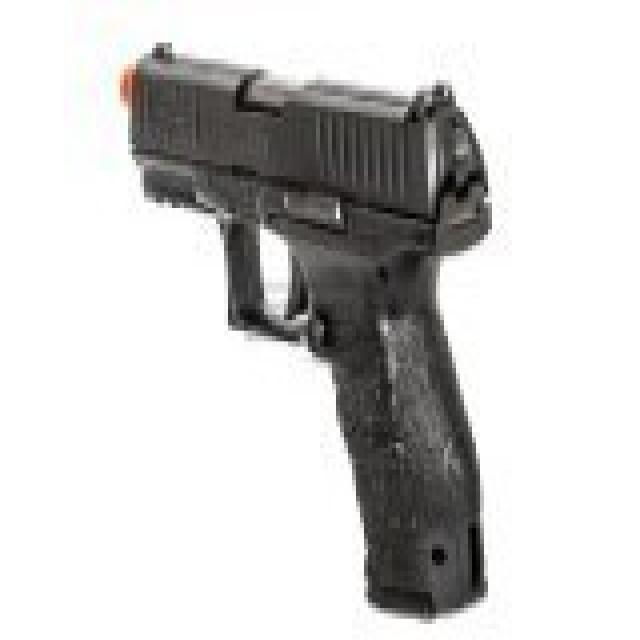Gun: (90, 28, 540, 621)
